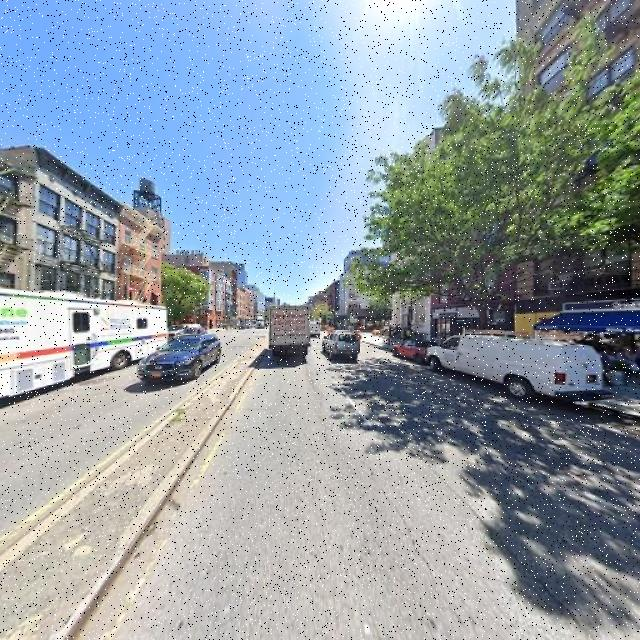Building: (517, 1, 640, 379), (29, 145, 117, 355), (434, 167, 511, 357), (394, 143, 430, 343), (122, 209, 158, 342), (1, 169, 22, 358)
